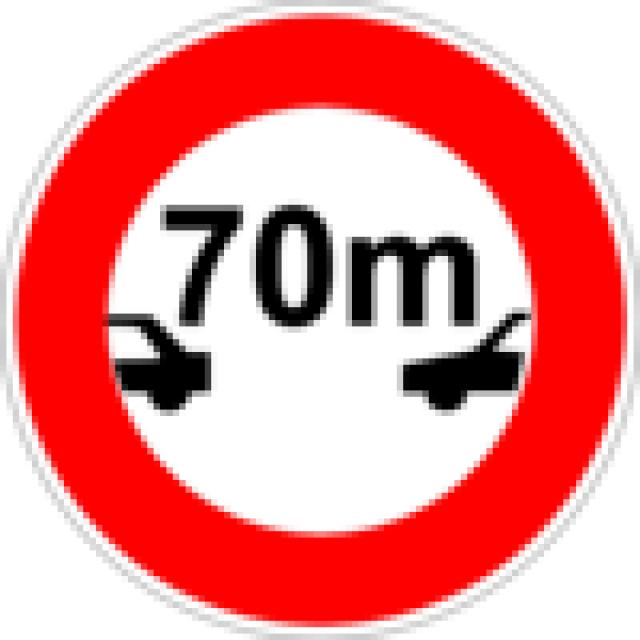forbidden: (0, 0, 633, 636)
